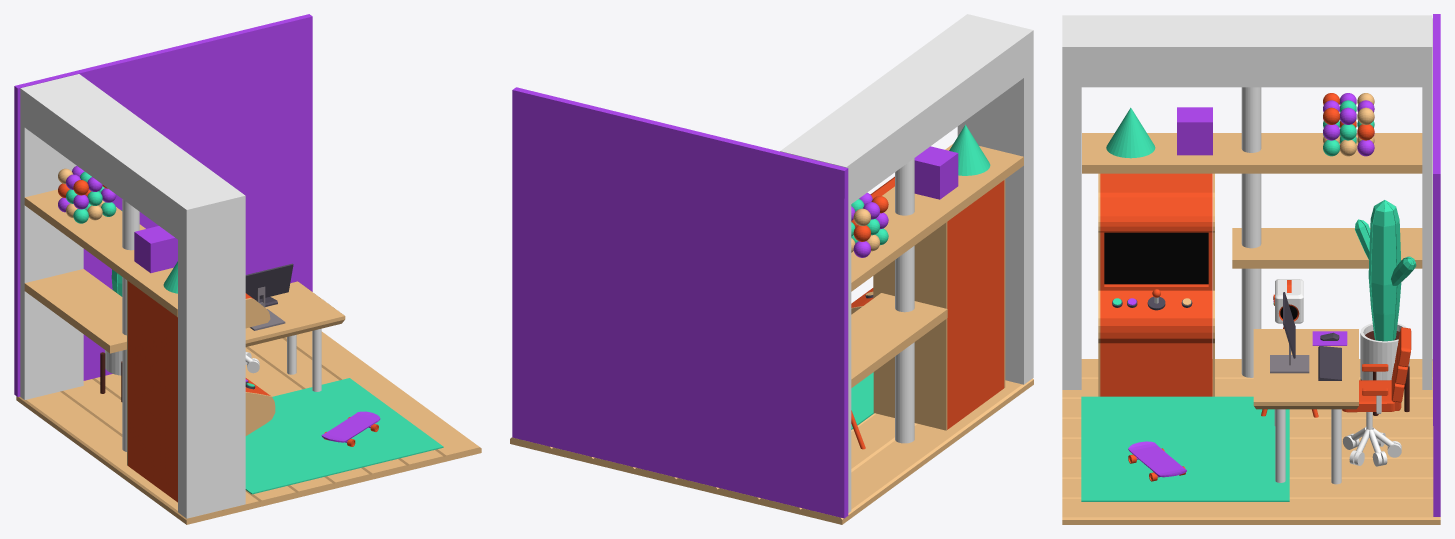
Rendered from room.glb.
3 views of the same model, side by side, from view 1: azimuth 30°, elevation 25°; view 2: azimuth 150°, elevation 25°; view 3: azimuth 270°, elevation 25° (orthographic). The views are drawn at different scales.
Visible parts, largest first — view 1: shelf, floor, carpet, game, desk, shelfSphere, shelfCube, monitor, skate, flower; view 2: floor, shelf, game, shelfCube, shelfSphere, shelfCone, carpet; view 3: shelf, floor, game, carpet, desk, flower, chair, shelfSphere, shelfCube, shelfCone, skate, monitor (+2 smaller).
Part boxes in pixels (bbox=[...]): shelf: bbox=[20, 74, 245, 518]; floor: bbox=[14, 14, 481, 524]; carpet: bbox=[245, 378, 443, 494]; game: bbox=[127, 280, 275, 502]; desk: bbox=[245, 281, 345, 391]; shelfSphere: bbox=[58, 166, 116, 223]; shelfCube: bbox=[134, 226, 177, 273]; monitor: bbox=[245, 263, 293, 330]; skate: bbox=[321, 411, 380, 446]; flower: bbox=[100, 210, 122, 401]; floor: bbox=[510, 87, 1033, 524]; shelf: bbox=[780, 14, 1033, 512]; game: bbox=[851, 176, 1005, 430]; shelfCube: bbox=[914, 146, 958, 199]; shelfSphere: bbox=[851, 192, 888, 257]; shelfCone: bbox=[949, 124, 990, 175]; carpet: bbox=[851, 372, 874, 429]; shelf: bbox=[1062, 15, 1432, 389]; floor: bbox=[1062, 14, 1440, 524]; game: bbox=[1098, 173, 1214, 396]; carpet: bbox=[1081, 396, 1289, 501]; desk: bbox=[1253, 329, 1358, 484]; flower: bbox=[1354, 200, 1416, 415]; chair: bbox=[1342, 327, 1411, 466]; shelfSphere: bbox=[1323, 93, 1374, 156]; shelfCube: bbox=[1177, 107, 1212, 155]; shelfCone: bbox=[1106, 107, 1155, 158]; skate: bbox=[1128, 441, 1186, 481]; monitor: bbox=[1270, 292, 1309, 373].
Bounding box in the file's own units: 2.01 × 2.34 × 2.
